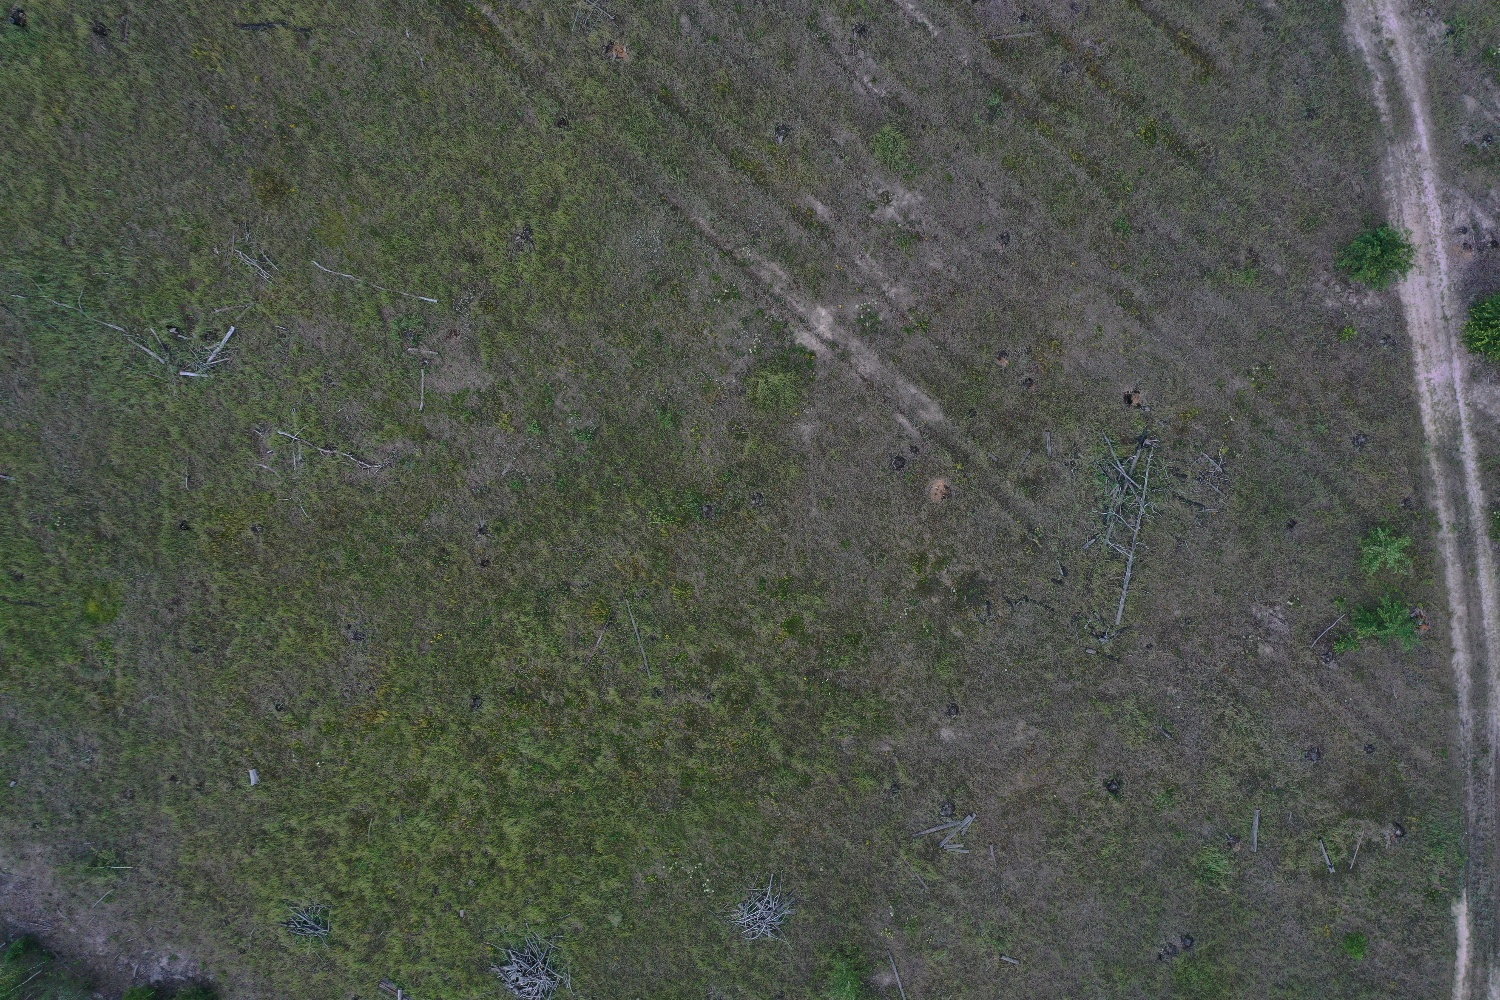branches: (721, 871, 810, 949), (485, 923, 575, 1000), (282, 900, 336, 937)
